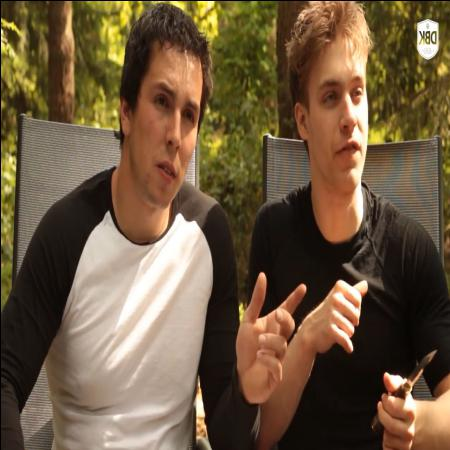long weapon: (359, 338, 440, 440)
